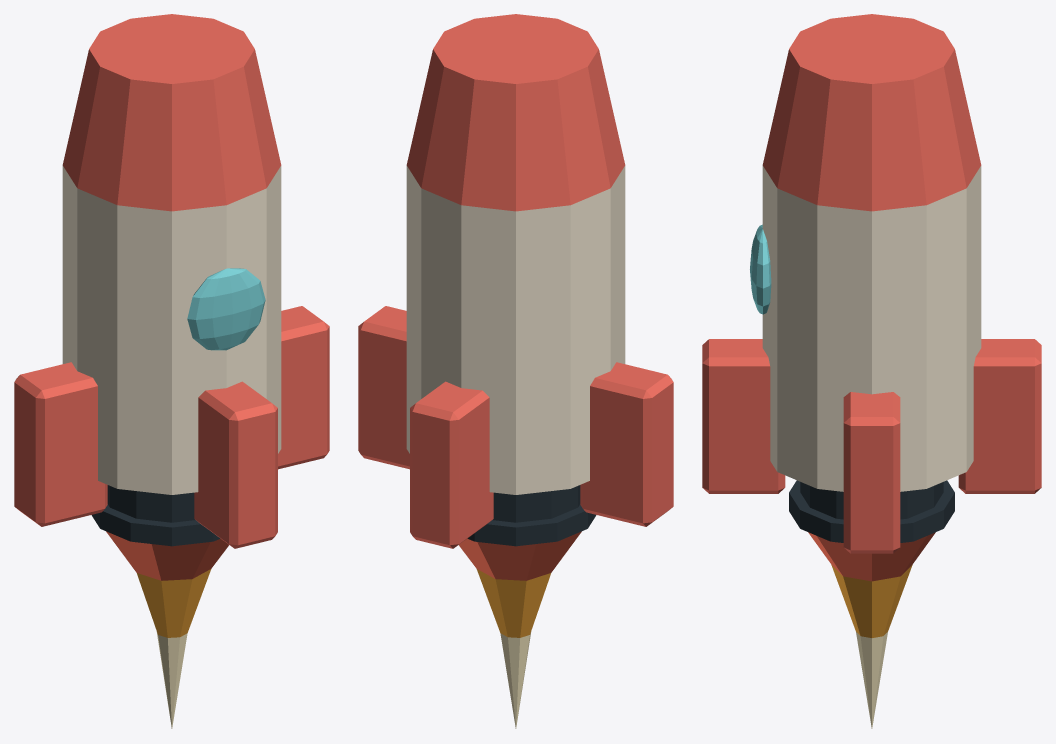
File: rocket_v1.glb
3 views of the same model, side by side, from view 1: azimuth 30°, elevation 25°; view 2: azimuth 150°, elevation 25°; view 3: azimuth 270°, elevation 25° (orthographic).
Parts seen in each view (by area): view 1: Rocket / paper fuselage, Rocket / coral blunt nose, Rocket / fin x -1, Rocket / fin y -1, Rocket / fin x 1, Rocket / teal porthole, Rocket / flame outer, Rocket / flame mid, Rocket / nozzle lower lip, Rocket / dark nozzle, Rocket / flame core; view 2: Rocket / paper fuselage, Rocket / coral blunt nose, Rocket / fin x -1, Rocket / fin y 1, Rocket / fin x 1, Rocket / flame outer, Rocket / flame mid, Rocket / nozzle lower lip, Rocket / dark nozzle, Rocket / flame core; view 3: Rocket / paper fuselage, Rocket / coral blunt nose, Rocket / fin y -1, Rocket / fin y 1, Rocket / fin x 1, Rocket / nozzle lower lip, Rocket / flame mid, Rocket / flame outer, Rocket / dark nozzle, Rocket / flame core, Rocket / teal porthole.
Part boxes in pixels (<box>): Rocket / paper fuselage: <box>62,166,281,494</box>; Rocket / coral blunt nose: <box>62,14,281,211</box>; Rocket / fin x -1: <box>14,362,107,526</box>; Rocket / fin y -1: <box>194,381,277,548</box>; Rocket / fin x 1: <box>278,306,329,469</box>; Rocket / teal porthole: <box>187,268,265,350</box>; Rocket / flame outer: <box>106,531,228,580</box>; Rocket / flame mid: <box>137,569,211,637</box>; Rocket / nozzle lower lip: <box>91,504,220,546</box>; Rocket / dark nozzle: <box>107,485,194,522</box>; Rocket / flame core: <box>156,631,187,728</box>; Rocket / paper fuselage: <box>406,166,625,494</box>; Rocket / coral blunt nose: <box>406,14,625,211</box>; Rocket / fin x -1: <box>580,362,673,526</box>; Rocket / fin y 1: <box>410,381,493,548</box>; Rocket / fin x 1: <box>358,306,409,469</box>; Rocket / flame outer: <box>459,531,581,580</box>; Rocket / flame mid: <box>476,569,550,637</box>; Rocket / nozzle lower lip: <box>467,504,596,546</box>; Rocket / dark nozzle: <box>493,485,580,522</box>; Rocket / flame core: <box>500,631,531,728</box>; Rocket / paper fuselage: <box>762,166,981,491</box>; Rocket / coral blunt nose: <box>762,14,981,211</box>; Rocket / fin y -1: <box>702,339,785,493</box>; Rocket / fin y 1: <box>958,339,1041,493</box>; Rocket / fin x 1: <box>843,392,900,553</box>; Rocket / nozzle lower lip: <box>789,480,954,542</box>; Rocket / flame mid: <box>831,565,912,637</box>; Rocket / flame outer: <box>808,532,935,581</box>; Rocket / dark nozzle: <box>800,482,943,519</box>; Rocket / flame core: <box>856,632,887,728</box>; Rocket / teal porthole: <box>750,224,771,314</box>.
Bounding box in the file's own units: 0.9 × 1.99 × 0.9.
